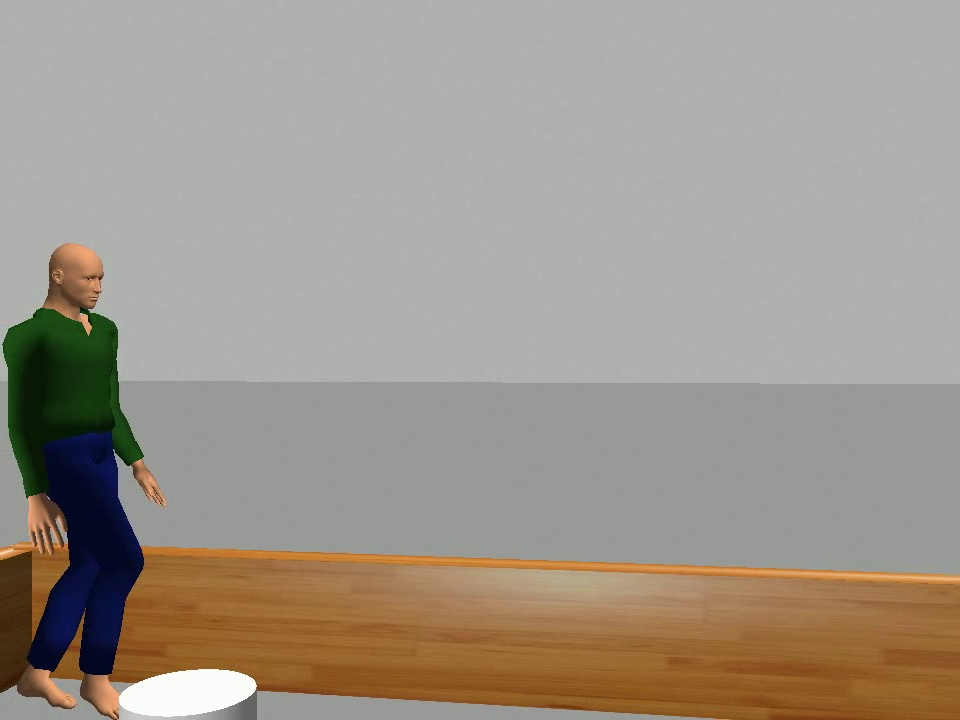person: (2, 239, 170, 720)
